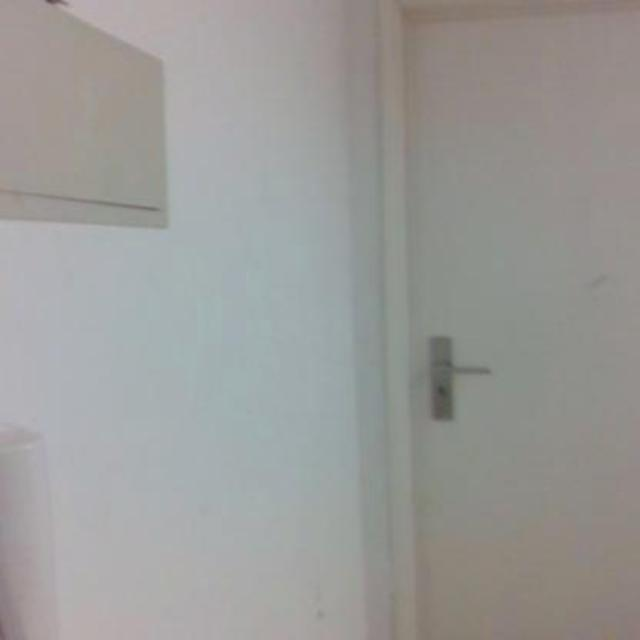door: (391, 0, 639, 638)
